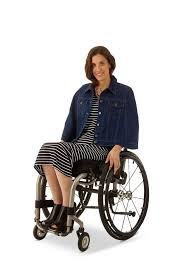wheelchair: (31, 45, 150, 252)
